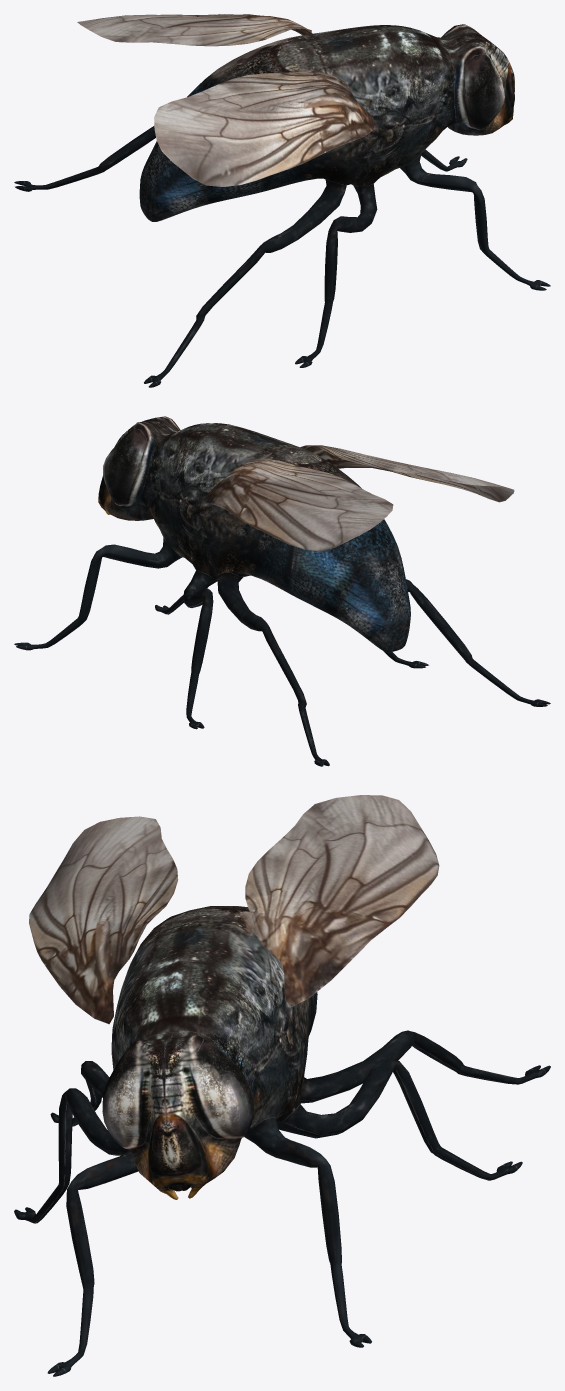
Rendered from Fly_centered.obj.
3 views of the same model, one above another, from view 1: azimuth 30°, elevation 25°; view 2: azimuth 150°, elevation 25°; view 3: azimuth 270°, elevation 25° (orthographic). The views are drawn at different scales.
Parts seen in each view (by area): view 1: Fly_Fly_0_0, Fly_Fly_0_1; view 2: Fly_Fly_0_0, Fly_Fly_0_1; view 3: Fly_Fly_0_0, Fly_Fly_0_1.
Boxes of the visible parts, x1,y1,x2,y2 form: Fly_Fly_0_0: (14,14,550,387); Fly_Fly_0_1: (15,14,547,387); Fly_Fly_0_0: (14,416,550,766); Fly_Fly_0_1: (19,422,544,764); Fly_Fly_0_0: (14,795,550,1376); Fly_Fly_0_1: (14,810,548,1372).
Size of the model in its own units: 2.96 by 1.74 by 2.33.
Materials: 1 (1 with a texture image).
